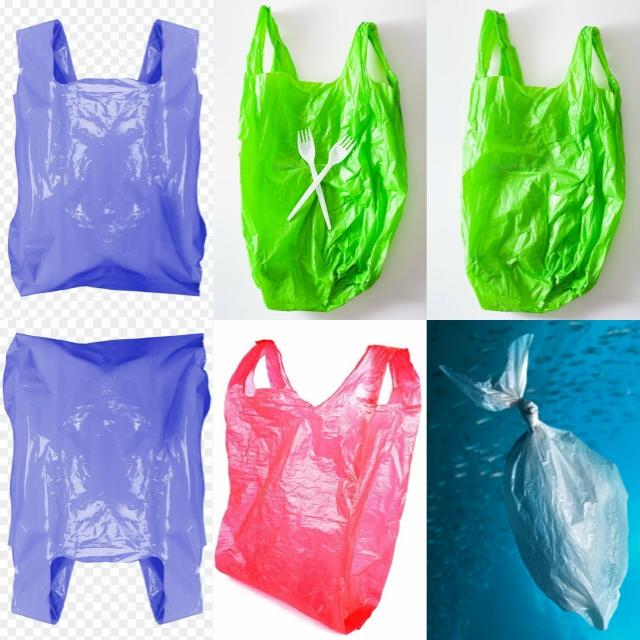Single-layer Plastic: (216, 341, 421, 633), (4, 334, 210, 624), (441, 334, 628, 630), (9, 20, 206, 296), (239, 6, 408, 310), (462, 10, 625, 312)
